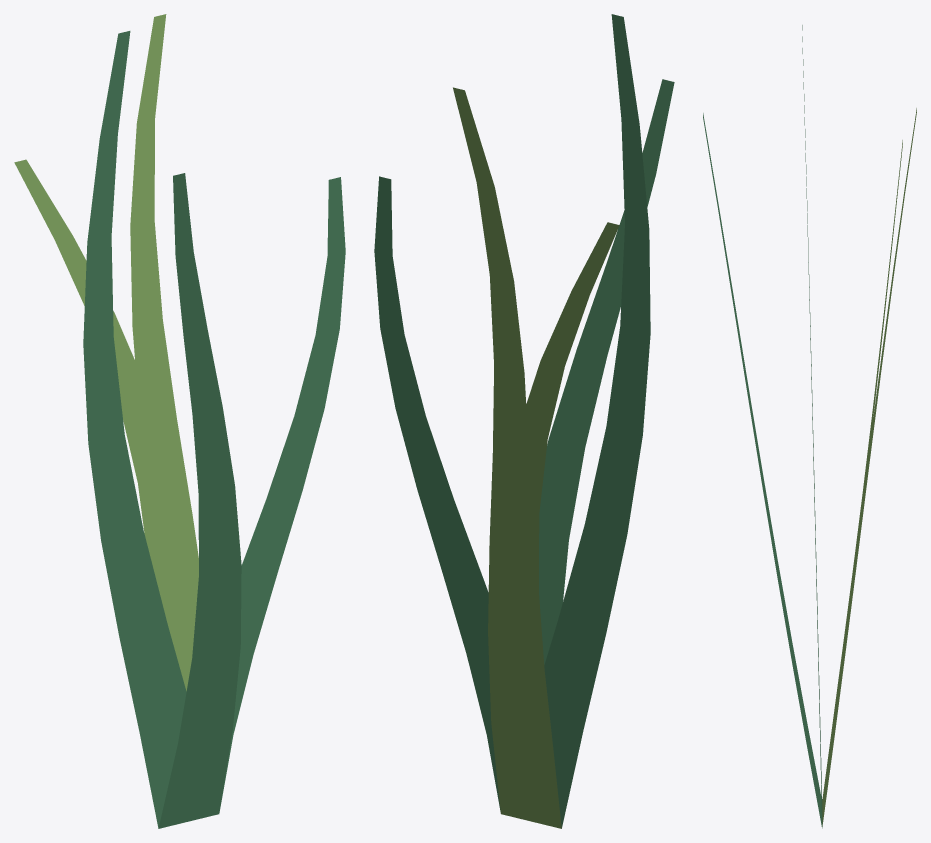
Rendered from kelp.glb.
3 views of the same model, side by side, from view 1: azimuth 30°, elevation 25°; view 2: azimuth 150°, elevation 25°; view 3: azimuth 270°, elevation 25° (orthographic). The views are drawn at different scales.
Visible parts, largest first — view 1: frond.004, frond.002, frond.001, frond, frond.003; view 2: frond.003, frond.004, frond, frond.002, frond.001; view 3: frond.002, frond.001, frond.003, frond.004.
Boxes of the visible parts, bbox=[...] form: frond.004: bbox=[83, 31, 186, 828]; frond.002: bbox=[158, 173, 241, 828]; frond.001: bbox=[14, 159, 196, 691]; frond: bbox=[220, 177, 345, 805]; frond.003: bbox=[130, 14, 198, 597]; frond.003: bbox=[453, 87, 561, 828]; frond.004: bbox=[544, 14, 650, 828]; frond: bbox=[374, 176, 500, 811]; frond.002: bbox=[539, 79, 674, 664]; frond.001: bbox=[526, 222, 619, 826]; frond.002: bbox=[703, 113, 822, 828]; frond.001: bbox=[822, 140, 902, 826]; frond.003: bbox=[823, 108, 916, 819]; frond.004: bbox=[802, 25, 822, 826].
Size of the model in its own units: 1.04 by 2.82 by 0.7153.
